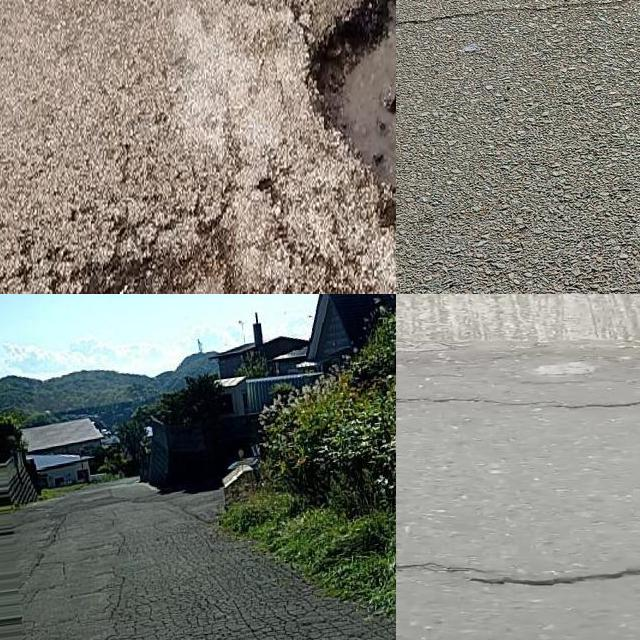Lubang: (293, 0, 396, 203)
Melintang: (396, 552, 640, 601), (396, 0, 640, 39)
Retak Buaya: (88, 520, 396, 640)
